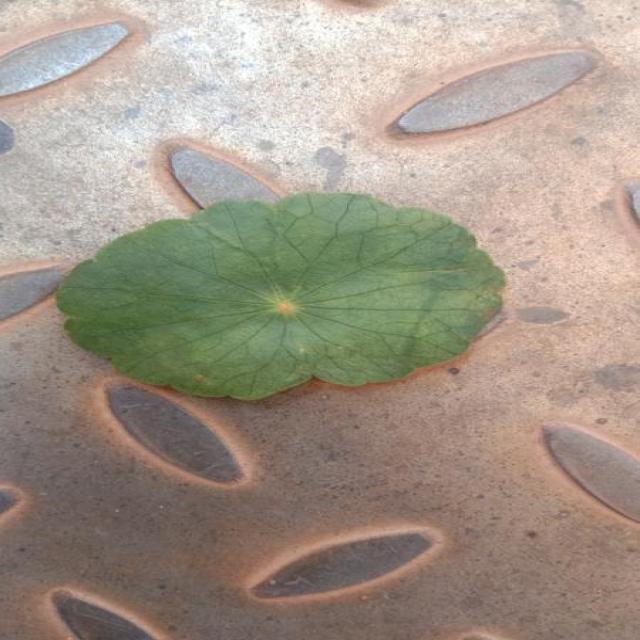bhrami: (57, 194, 505, 399)
